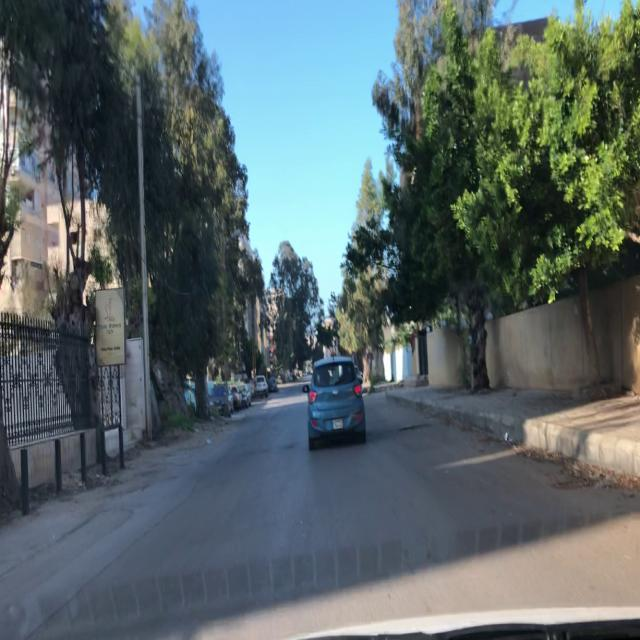Pothole: (398, 422, 434, 434)
